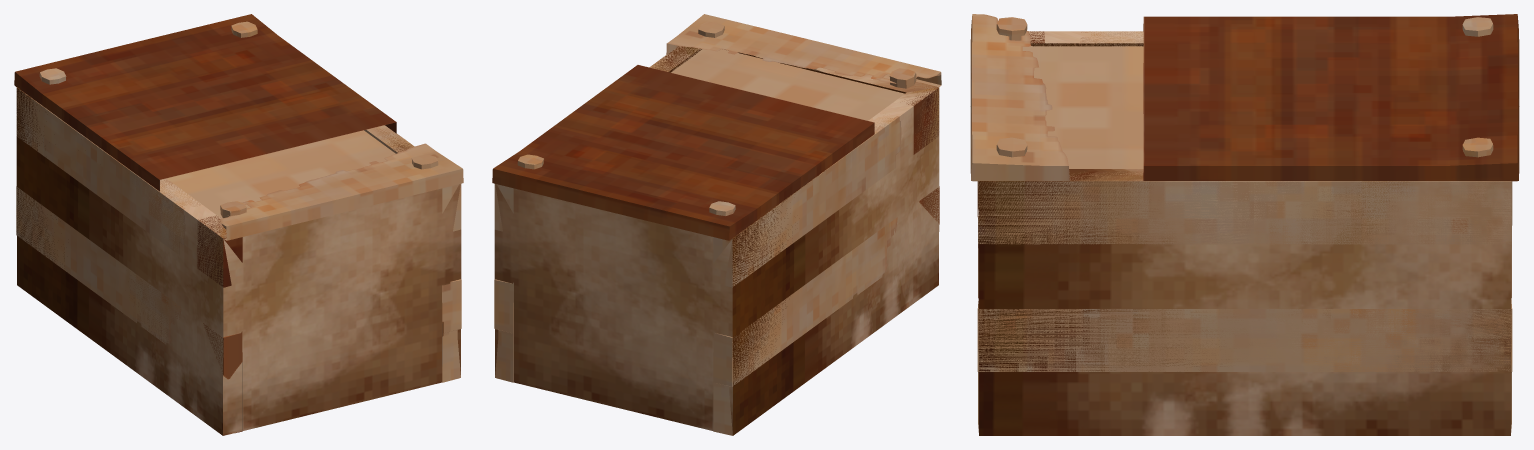
File: chCrate.fbx
The picture shows the model from 3 angles, left to right: view 1: azimuth 30°, elevation 25°; view 2: azimuth 150°, elevation 25°; view 3: azimuth 270°, elevation 25°; orthographic projection. The views are drawn at different scales.
Parts seen in each view (by area): view 1: CratePHY, CrateB, CrateA; view 2: CratePHY, CrateB, CrateA; view 3: CratePHY, CrateB, CrateA.
Part boxes in pixels (box(x1,y1,x2,y2)): CratePHY: box(16, 87, 461, 435); CrateB: box(14, 14, 463, 240); CrateA: box(16, 87, 461, 433); CratePHY: box(494, 46, 939, 435); CrateB: box(492, 14, 941, 240); CrateA: box(494, 46, 939, 435); CratePHY: box(978, 31, 1511, 435); CrateB: box(970, 14, 1519, 181); CrateA: box(977, 31, 1512, 432).
Bounding box in the file's own units: 0.5106 × 0.3298 × 0.2846.
